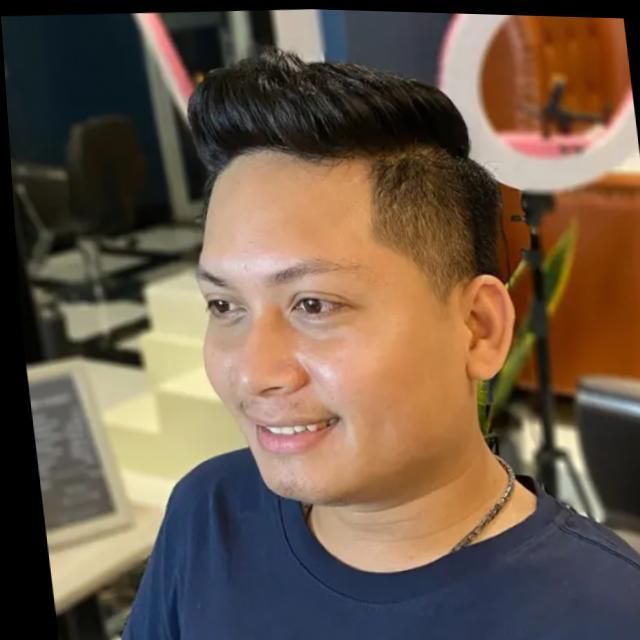Nonhelmet: (179, 46, 521, 508)
